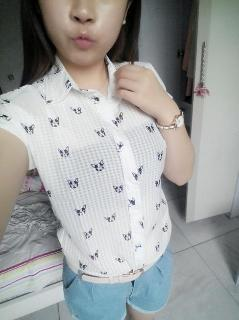short sleeve top: (0, 53, 173, 277)
shorts: (62, 232, 174, 319)
